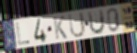0: (107, 7, 121, 34)
4: (34, 17, 48, 44)
K: (52, 15, 68, 40)
L: (15, 22, 31, 46)
U: (67, 11, 87, 39), (87, 8, 106, 36)
